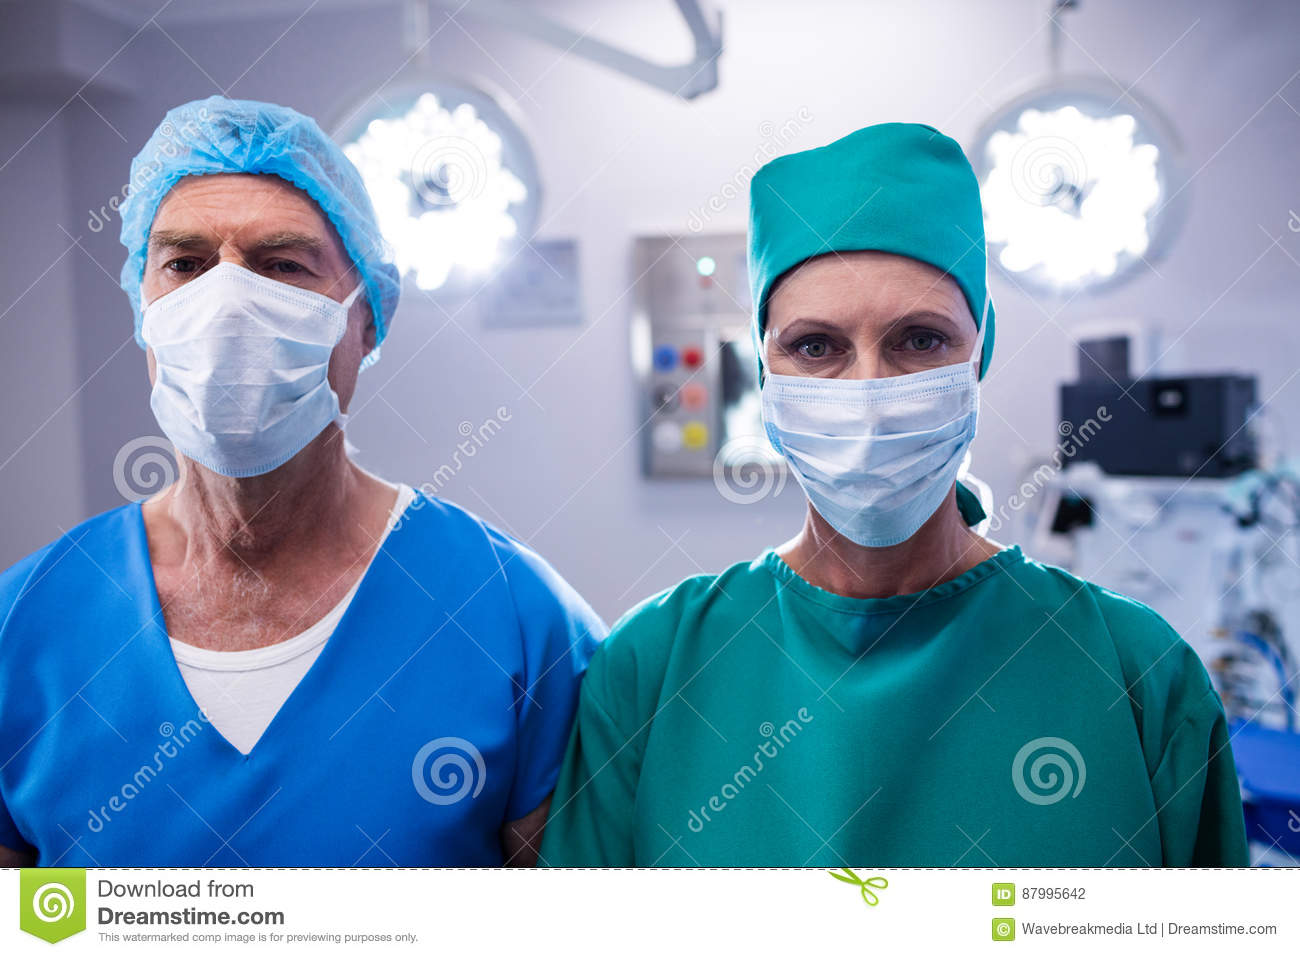mask: (764, 367, 1019, 582), (132, 289, 354, 466)
